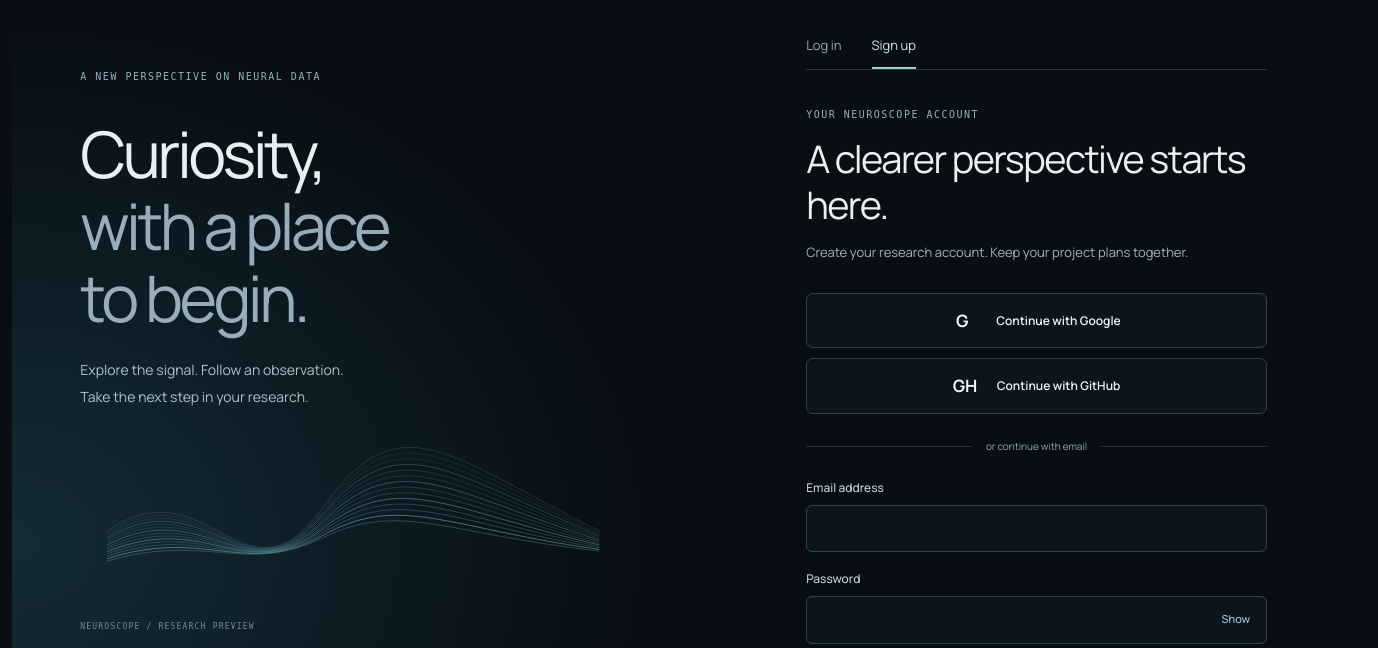
Test case: Account UI with mocked Supabase responses (not live auth) › validates signup password length and confirmation
Type "researcher@example.test" into the field labelled "Email address".
click(1036, 529); type("researcher@example.test")  # box [806,505,1267,552]
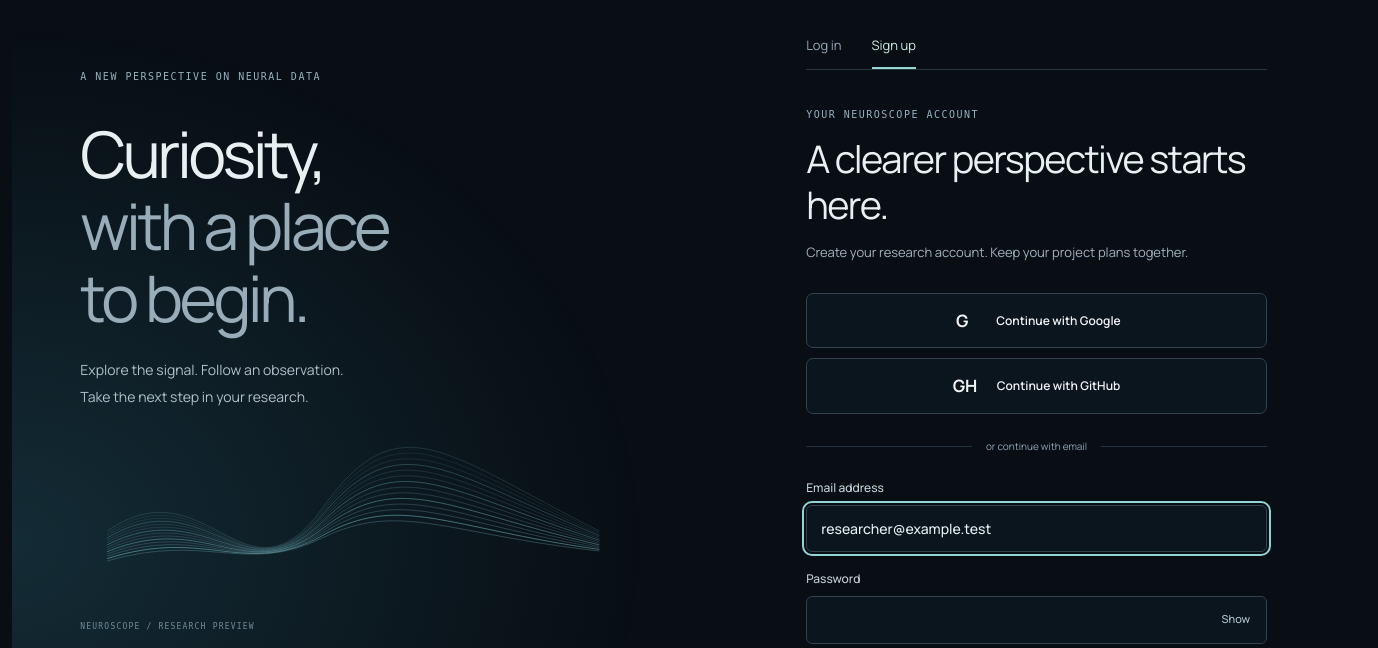
Type "short" into the password field labelled "Password".
click(1036, 620); type("short")  # box [806,596,1267,644]
(page scrolled)
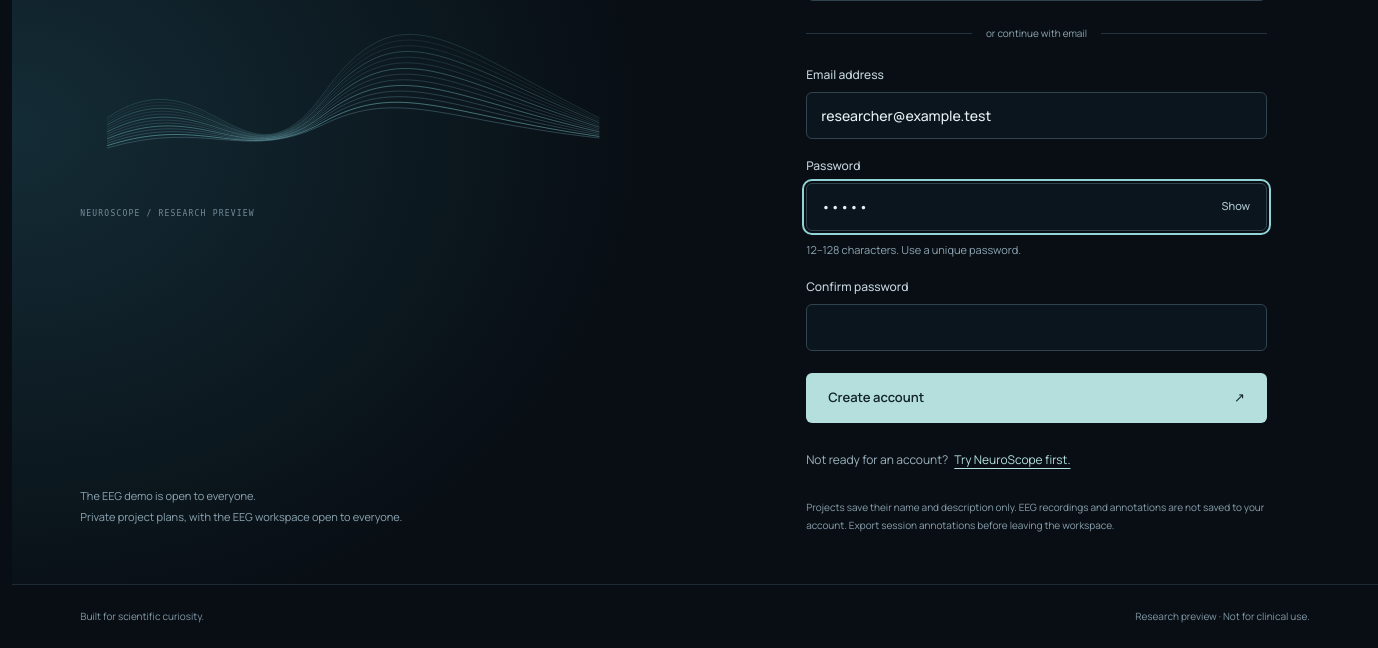
Click the button "Create account ↗".
click(876, 397)  # box [806,373,1267,423]
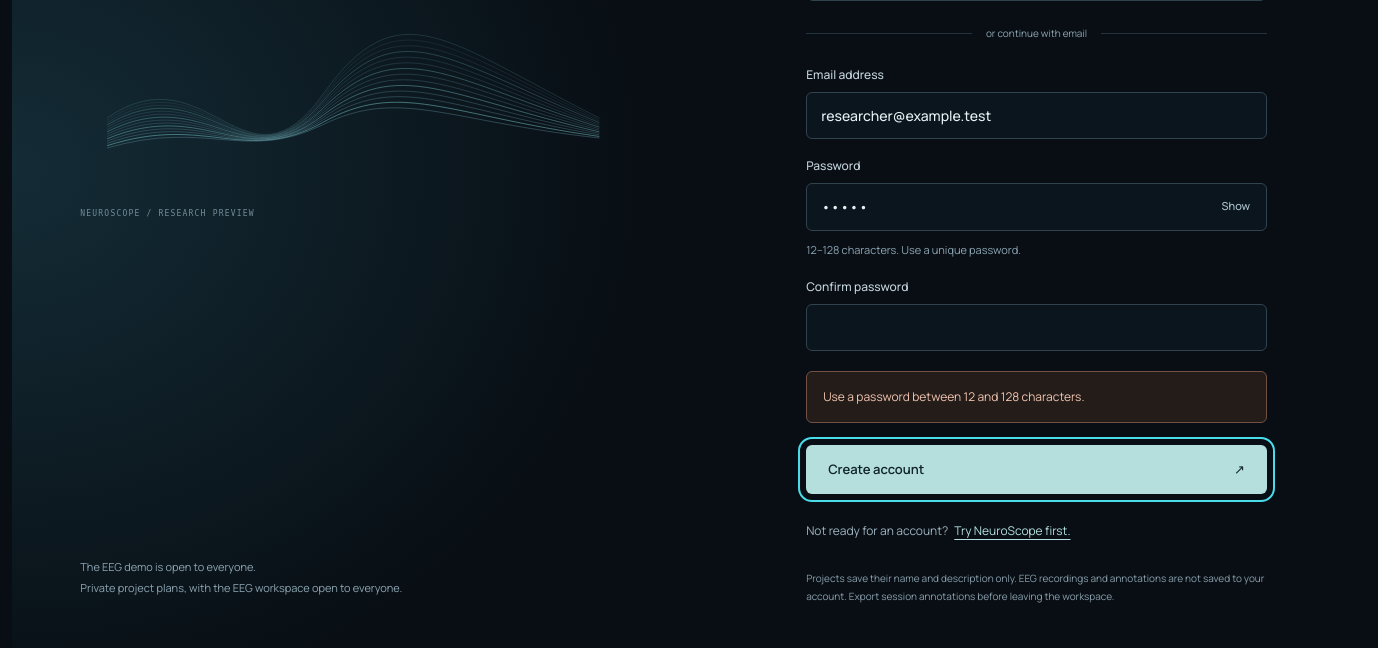
Expected: the message shows "12 and 128", [823,388,1084,405]
Type "long-password-here" into the password field labelled "Password".
click(1036, 207); type("long-password-here")  # box [806,183,1267,231]
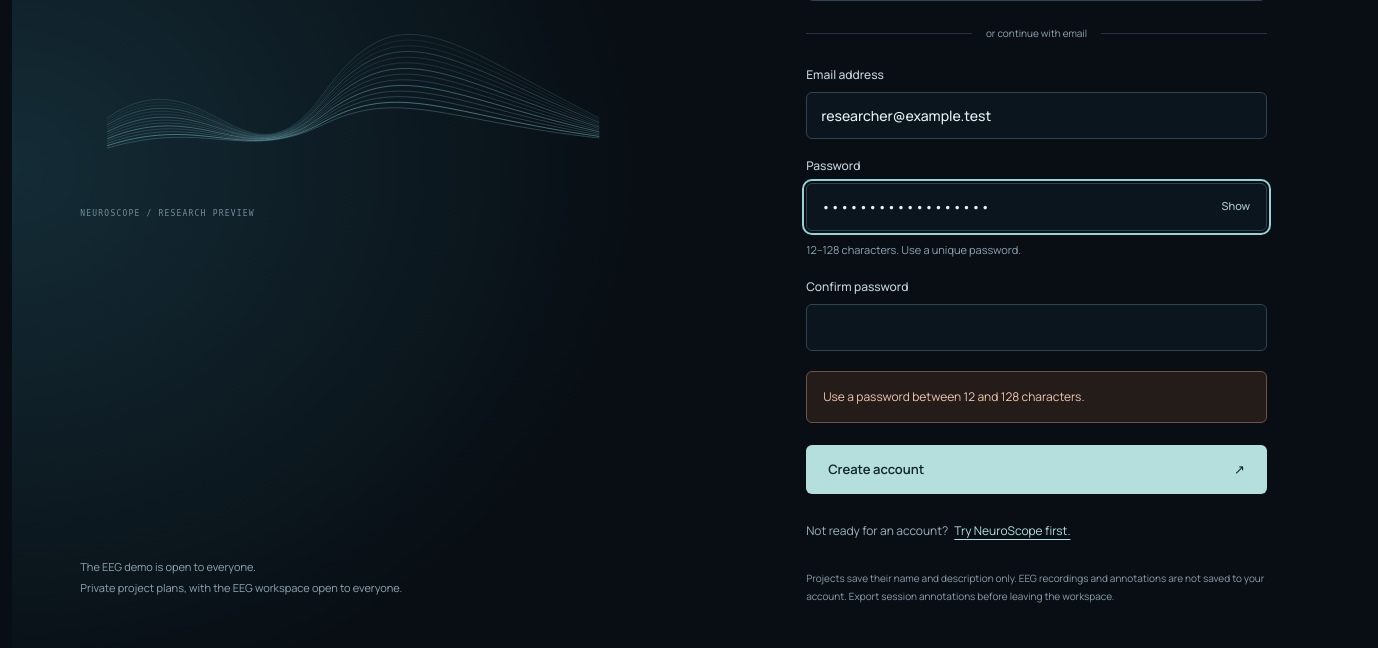
Click the button "Create account ↗".
click(876, 469)  # box [806,445,1267,494]
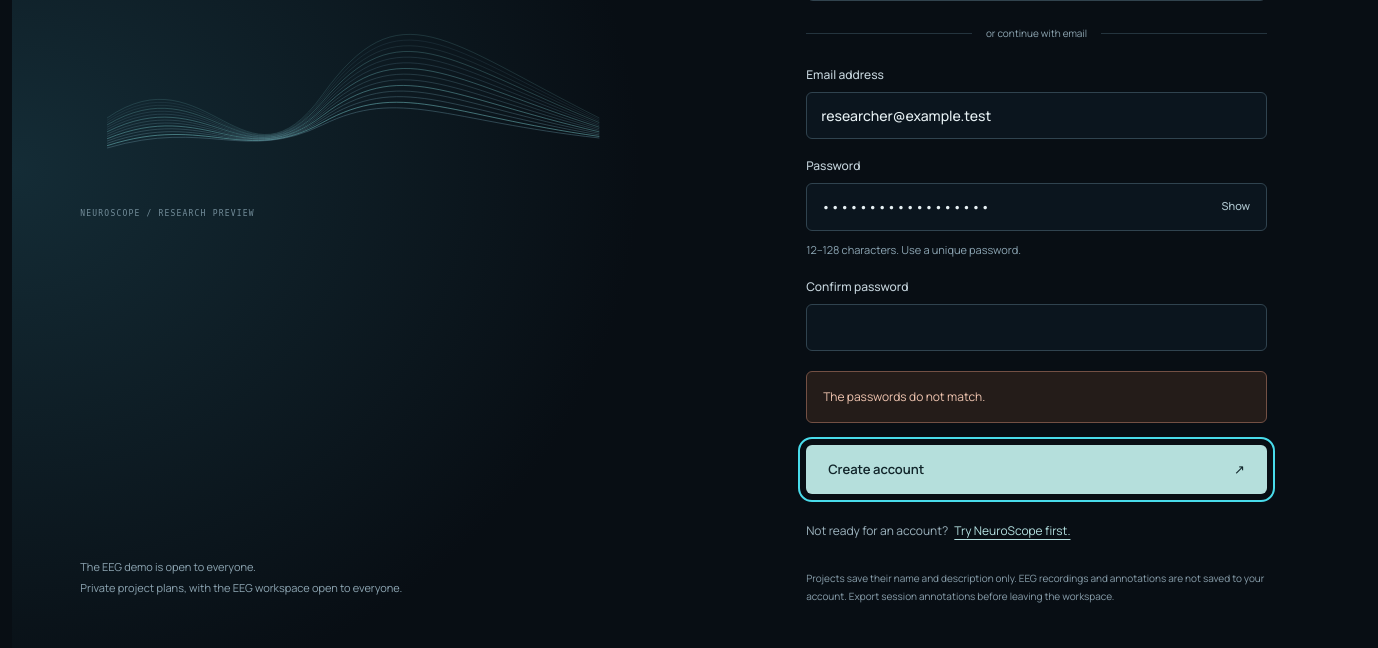
Expected: the message shows "do not match", [823,388,985,405]
